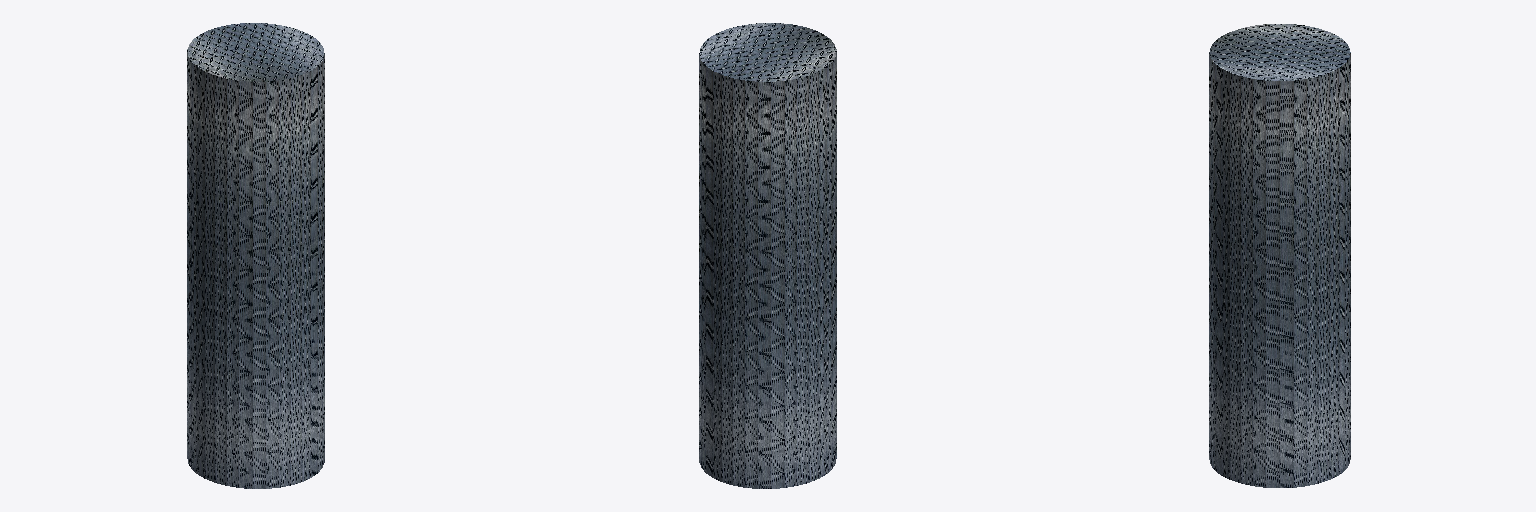
3 renders of one model, left to right at view 1: azimuth 30°, elevation 25°; view 2: azimuth 150°, elevation 25°; view 3: azimuth 270°, elevation 25°, orthographic.
Parts seen in each view (by area): view 1: Cylinder; view 2: Cylinder; view 3: Cylinder.
Boxes of the visible parts, x1,y1,x2,y2 form: Cylinder: [187, 23, 324, 488]; Cylinder: [699, 23, 836, 488]; Cylinder: [1209, 24, 1350, 487].
Bounding box in the file's own units: 0.6068 × 2 × 0.6285.
1 materials, 1 textured.